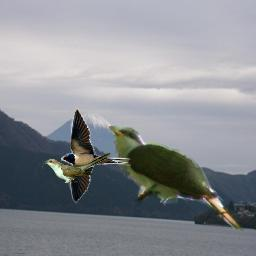Cuckoo: (105, 125, 244, 231), (42, 152, 111, 183)
Swallow: (61, 108, 132, 204)
